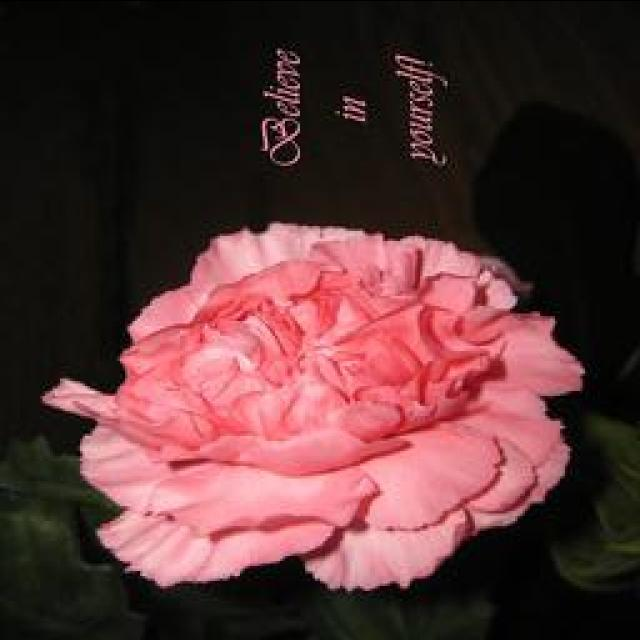carnation: (58, 213, 566, 606)
